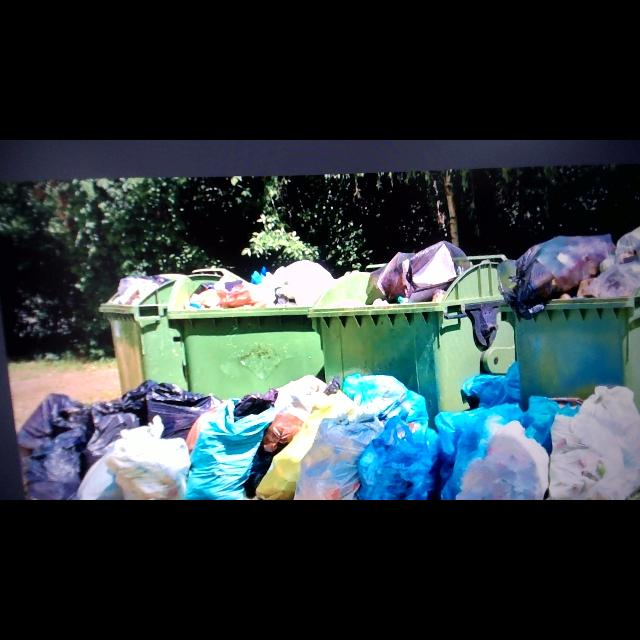Trash_Can_Full: (308, 239, 499, 410), (500, 227, 640, 402), (167, 260, 334, 399), (98, 273, 176, 395)
